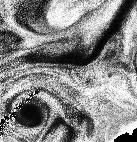CE: (7, 89, 53, 134)
